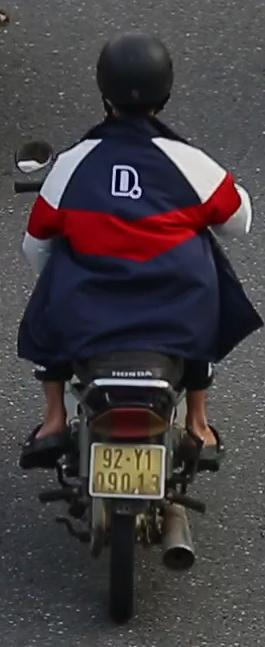LP: (84, 435, 175, 503)
helmet: (92, 33, 177, 125)
